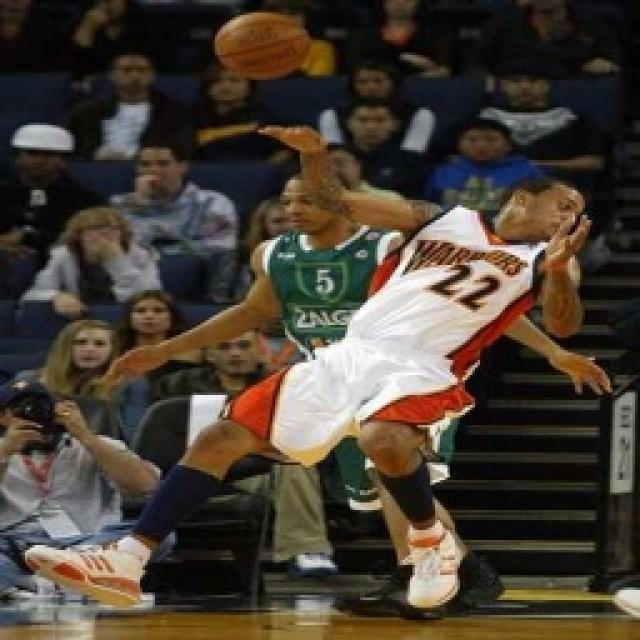rim: (212, 6, 316, 88)
